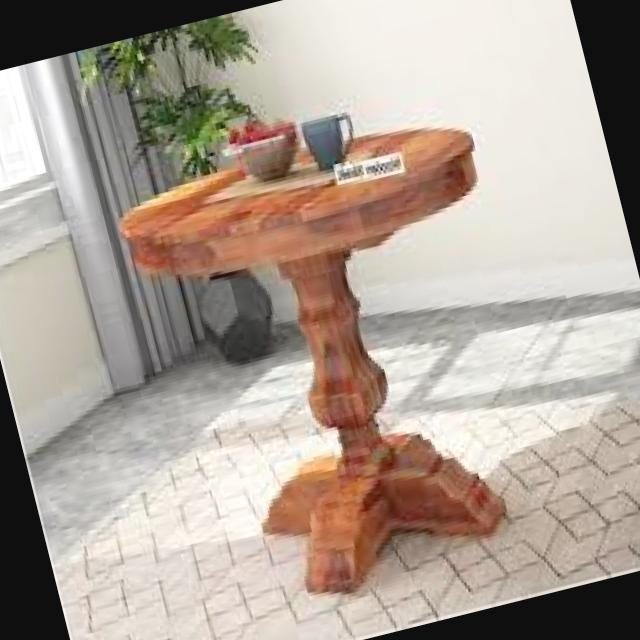obstacle: (63, 15, 594, 640)
